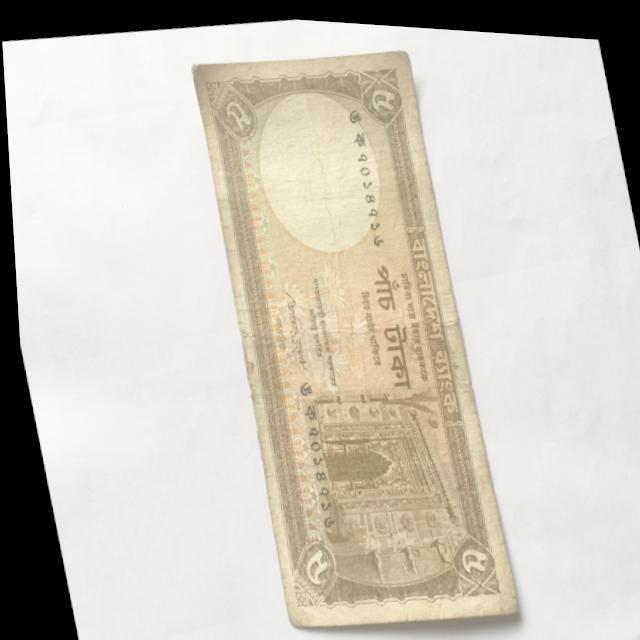Taka: (182, 24, 521, 640)
